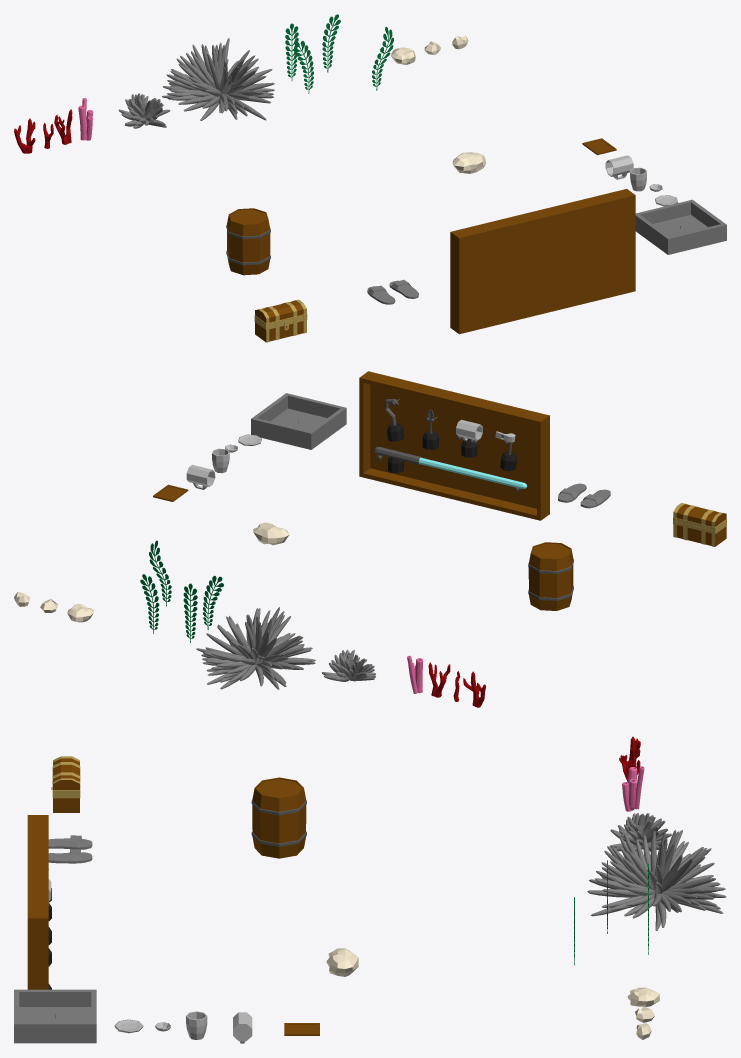
The model's file is scenecolor.obj.
3 views of the same model, one above another, from view 1: azimuth 30°, elevation 25°; view 2: azimuth 150°, elevation 25°; view 3: azimuth 270°, elevation 25° (orthographic). The views are drawn at different scales.
Visible parts, largest first — view 1: kasten hakenkasten1, MASH1_ReproMesh mash_coral1 mash_coral1, hakenkasten, beere, treasure pCube6, mash_coral2 MASH2_ReproMesh, stone1; view 2: kasten hakenkasten1, MASH1_ReproMesh mash_coral1 mash_coral1, hakenkasten, beere, treasure pCube6, kasten pSphere8, mash_coral2 MASH2_ReproMesh, stone1, glas glas; view 3: MASH1_ReproMesh mash_coral1 mash_coral1, hakenkasten, beere, kasten hakenkasten1, treasure pCube6, mash_coral2 MASH2_ReproMesh, stone1, vase, glas glas, stone2.
Part boxes in pixels (x1,y1,x2,y2): kasten hakenkasten1: (450, 189, 635, 334); MASH1_ReproMesh mash_coral1 mash_coral1: (162, 38, 274, 120); hakenkasten: (635, 199, 726, 254); beere: (226, 208, 270, 275); treasure pCube6: (254, 299, 307, 342); mash_coral2 MASH2_ReproMesh: (118, 93, 170, 128); stone1: (452, 152, 486, 173); kasten hakenkasten1: (359, 371, 549, 520); MASH1_ReproMesh mash_coral1 mash_coral1: (196, 607, 315, 689); hakenkasten: (251, 393, 346, 449); beere: (528, 542, 573, 610); treasure pCube6: (673, 503, 726, 546); kasten pSphere8: (374, 446, 527, 488); mash_coral2 MASH2_ReproMesh: (321, 649, 375, 681); stone1: (253, 522, 289, 545); glas glas: (186, 464, 215, 489); MASH1_ReproMesh mash_coral1 mash_coral1: (587, 830, 726, 930); hakenkasten: (14, 989, 96, 1043); beere: (251, 777, 306, 858); kasten hakenkasten1: (27, 815, 48, 989); treasure pCube6: (52, 756, 80, 812); mash_coral2 MASH2_ReproMesh: (609, 813, 671, 851); stone1: (326, 948, 358, 976); vase: (186, 1011, 207, 1039); glas glas: (233, 1012, 252, 1043); stone2: (627, 987, 659, 1006).
Size of the model in its own units: 23.37 by 5.06 by 26.3.
